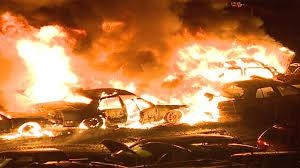fire: (10, 24, 89, 106)
